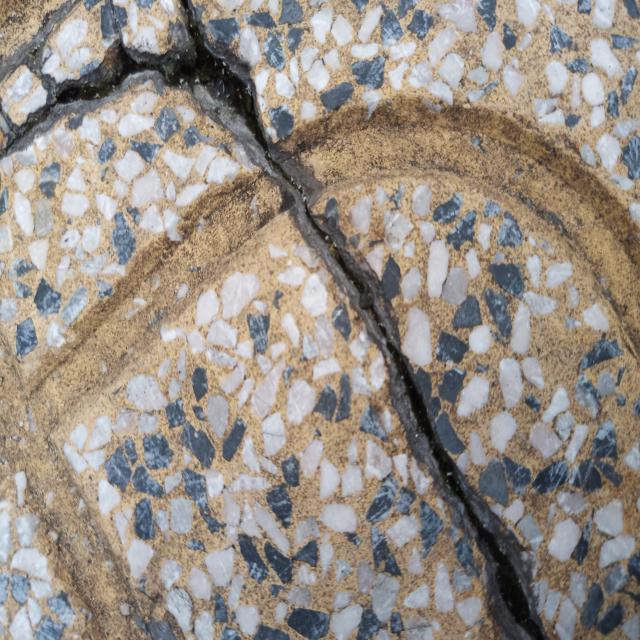curved crack: (4, 0, 547, 639)
